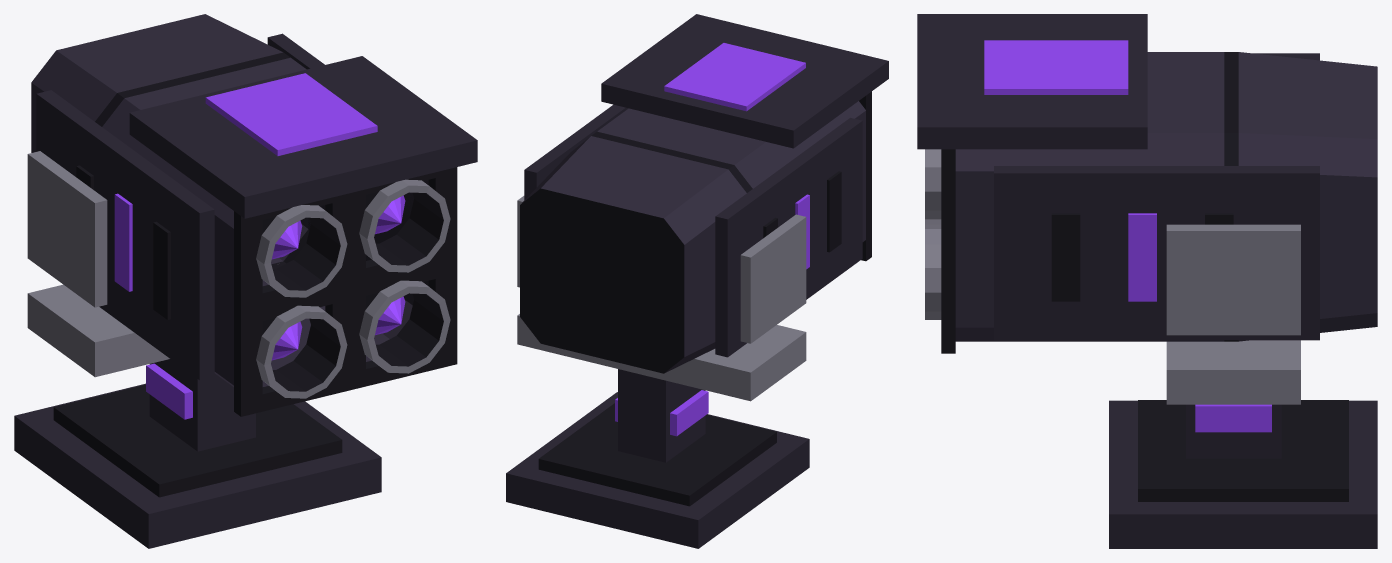
File: missile_pod.fbx
The picture shows the model from 3 angles, left to right: view 1: azimuth 30°, elevation 25°; view 2: azimuth 150°, elevation 25°; view 3: azimuth 270°, elevation 25°; orthographic projection. The views are drawn at different scales.
Visible parts, largest first — view 1: missile_pod; view 2: missile_pod; view 3: missile_pod.
Part boxes in pixels (x1,y1,x2,y2): missile_pod: (14, 14, 477, 548); missile_pod: (506, 14, 888, 548); missile_pod: (917, 14, 1377, 548).
Size of the model in its own units: 0.34 by 0.492 by 0.48.
